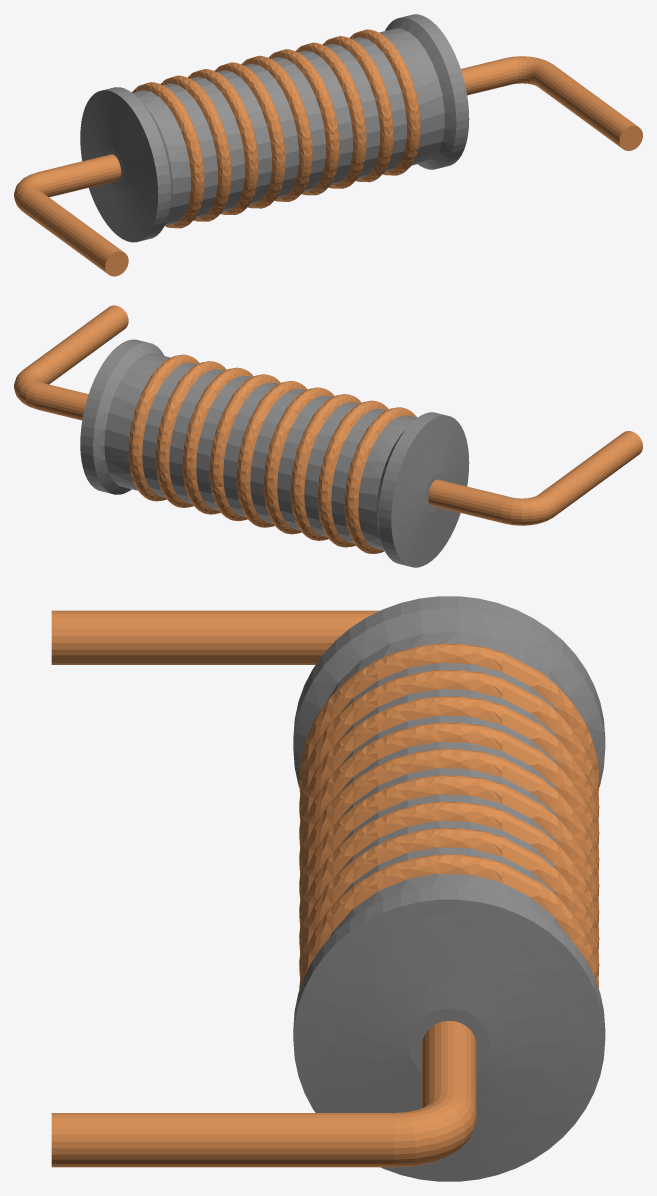
The model's file is L_Axial_L9.5mm_D4.0mm_P15.24mm_Horizontal_Fastron_SMCC.glb.
3 views of the same model, one above another, from view 1: azimuth 30°, elevation 25°; view 2: azimuth 150°, elevation 25°; view 3: azimuth 270°, elevation 25° (orthographic). The views are drawn at different scales.
Parts seen in each view (by area): view 1: Shape_IndexedFaceSet.029, Shape_IndexedFaceSet.005, Shape_IndexedFaceSet.033, Shape_IndexedFaceSet.008, Shape_IndexedFaceSet.026, Shape_IndexedFaceSet.025, Shape_IndexedFaceSet.015, Shape_IndexedFaceSet.019, Shape_IndexedFaceSet.023, Shape_IndexedFaceSet.007, Shape_IndexedFaceSet.013, Shape_IndexedFaceSet.011 (+19 smaller); view 2: Shape_IndexedFaceSet.029, Shape_IndexedFaceSet.005, Shape_IndexedFaceSet.033, Shape_IndexedFaceSet.008, Shape_IndexedFaceSet.026, Shape_IndexedFaceSet.017, Shape_IndexedFaceSet.025, Shape_IndexedFaceSet.019, Shape_IndexedFaceSet.013, Shape_IndexedFaceSet.011, Shape_IndexedFaceSet.007, Shape_IndexedFaceSet.015 (+17 smaller); view 3: Shape_IndexedFaceSet, Shape_IndexedFaceSet.008, Shape_IndexedFaceSet.033, Shape_IndexedFaceSet.027, Shape_IndexedFaceSet.023, Shape_IndexedFaceSet.011, Shape_IndexedFaceSet.021, Shape_IndexedFaceSet.015, Shape_IndexedFaceSet.017, Shape_IndexedFaceSet.013, Shape_IndexedFaceSet.019, Shape_IndexedFaceSet.025 (+16 smaller).
Boxes of the visible parts, x1,y1,x2,y2 form: Shape_IndexedFaceSet.029: (80, 90, 158, 242); Shape_IndexedFaceSet.005: (379, 28, 444, 165); Shape_IndexedFaceSet.033: (19, 188, 122, 274); Shape_IndexedFaceSet.008: (533, 63, 637, 148); Shape_IndexedFaceSet.026: (132, 90, 190, 225); Shape_IndexedFaceSet.025: (132, 82, 204, 228); Shape_IndexedFaceSet.015: (268, 49, 339, 195); Shape_IndexedFaceSet.019: (215, 62, 285, 208); Shape_IndexedFaceSet.023: (161, 75, 231, 221); Shape_IndexedFaceSet.007: (350, 29, 420, 175); Shape_IndexedFaceSet.013: (296, 42, 366, 188); Shape_IndexedFaceSet.011: (323, 36, 393, 182); Shape_IndexedFaceSet.029: (391, 415, 469, 567); Shape_IndexedFaceSet.005: (104, 353, 170, 490); Shape_IndexedFaceSet.033: (539, 431, 642, 516); Shape_IndexedFaceSet.008: (25, 305, 128, 384); Shape_IndexedFaceSet.026: (358, 415, 416, 550); Shape_IndexedFaceSet.017: (236, 381, 307, 527); Shape_IndexedFaceSet.025: (344, 407, 417, 553); Shape_IndexedFaceSet.019: (263, 387, 334, 534); Shape_IndexedFaceSet.013: (182, 367, 253, 514); Shape_IndexedFaceSet.011: (155, 361, 226, 507); Shape_IndexedFaceSet.007: (128, 354, 199, 501); Shape_IndexedFaceSet.015: (209, 374, 280, 521); Shape_IndexedFaceSet: (293, 899, 605, 1181); Shape_IndexedFaceSet.008: (51, 1113, 394, 1167); Shape_IndexedFaceSet.033: (51, 610, 379, 664); Shape_IndexedFaceSet.027: (293, 608, 605, 787); Shape_IndexedFaceSet.023: (299, 669, 599, 819); Shape_IndexedFaceSet.011: (299, 828, 599, 978); Shape_IndexedFaceSet.021: (299, 696, 599, 847); Shape_IndexedFaceSet.015: (299, 775, 599, 926); Shape_IndexedFaceSet.017: (299, 749, 599, 898); Shape_IndexedFaceSet.013: (299, 801, 599, 952); Shape_IndexedFaceSet.019: (299, 722, 599, 873); Shape_IndexedFaceSet.025: (299, 643, 599, 794).
Bounding box in the file's own units: 6.27 × 1.57 × 2.8.
